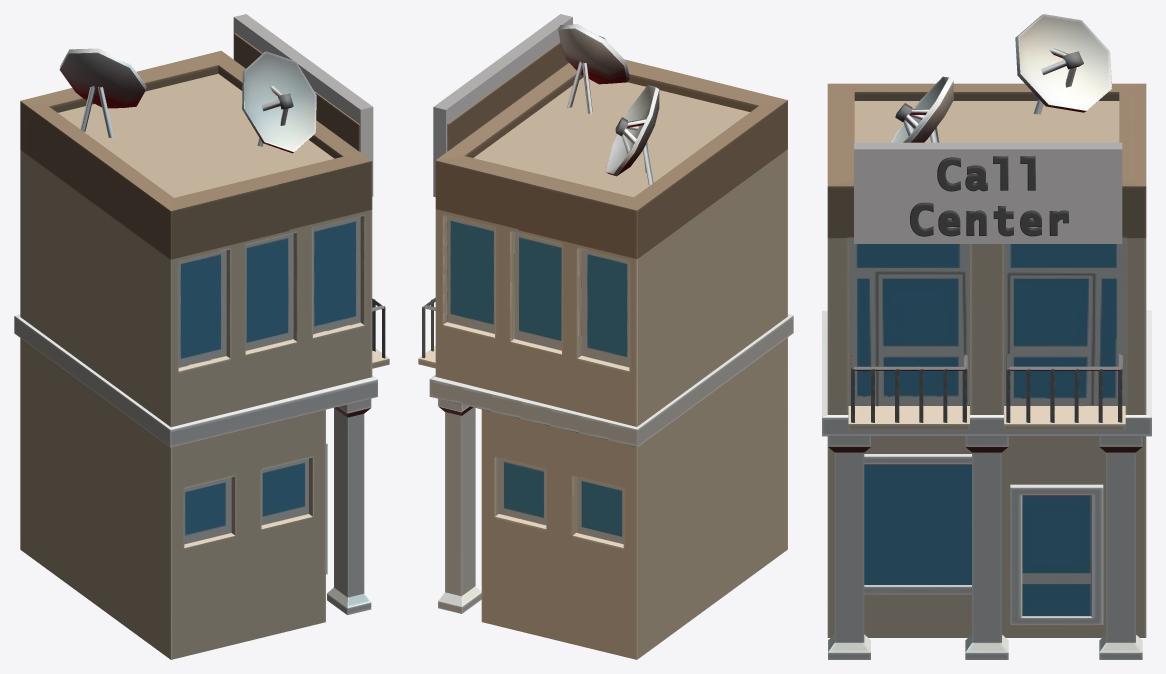
Rendered from Call Center.fbx.
3 views of the same model, side by side, from view 1: azimuth 30°, elevation 25°; view 2: azimuth 150°, elevation 25°; view 3: azimuth 270°, elevation 25° (orthographic). The views are drawn at different scales.
Visible parts, largest first — view 1: Plane001, Cube.012; view 2: Plane001, Cube.012; view 3: Plane001, Cube.012, Text.013.
Boxes of the visible parts, x1,y1,x2,y2 form: Plane001: (14, 33, 389, 659); Cube.012: (233, 14, 373, 196); Plane001: (418, 24, 793, 659); Cube.012: (433, 14, 572, 197); Plane001: (822, 14, 1151, 659); Cube.012: (854, 142, 1122, 243); Text.013: (910, 156, 1068, 236).
Bounding box in the file's own units: 434 × 949 × 507.
3 materials, 1 textured.
